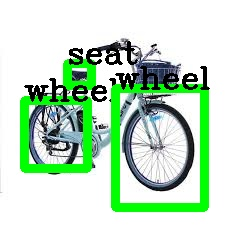seat: (67, 63, 91, 85)
wheel: (115, 88, 204, 207), (24, 100, 87, 168)
